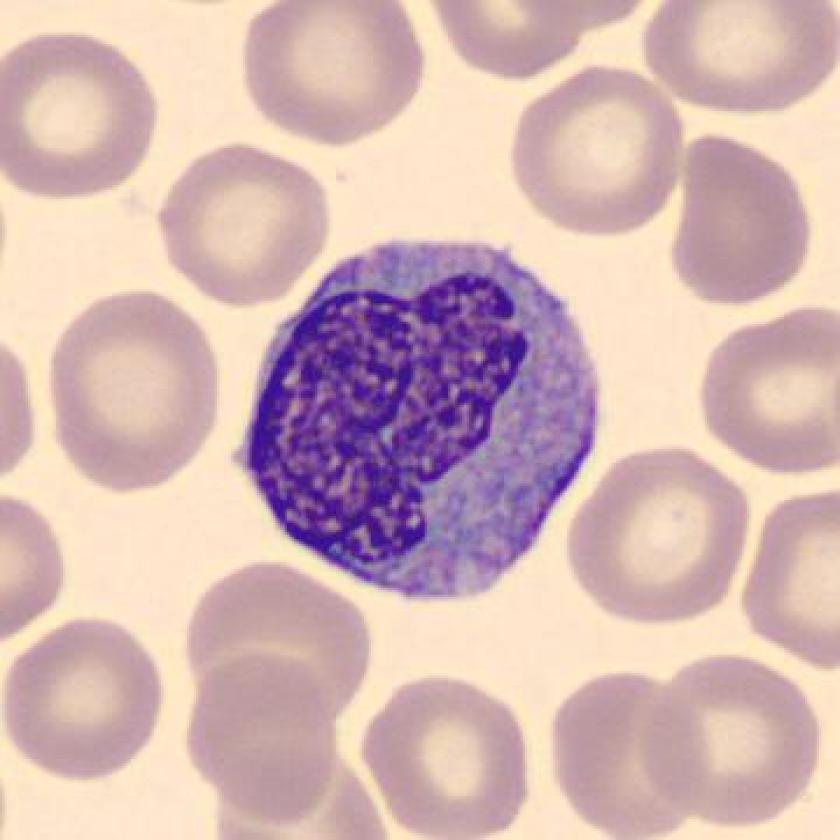monocyte: (216, 216, 631, 626)
